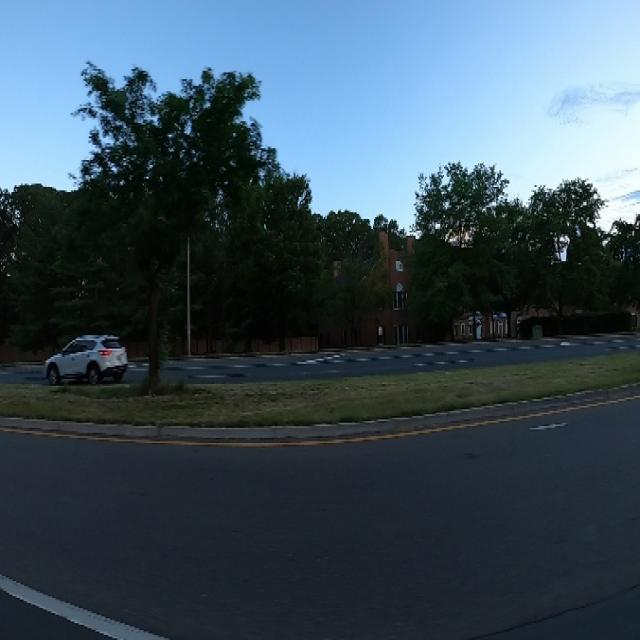cars: (45, 323, 130, 387)
